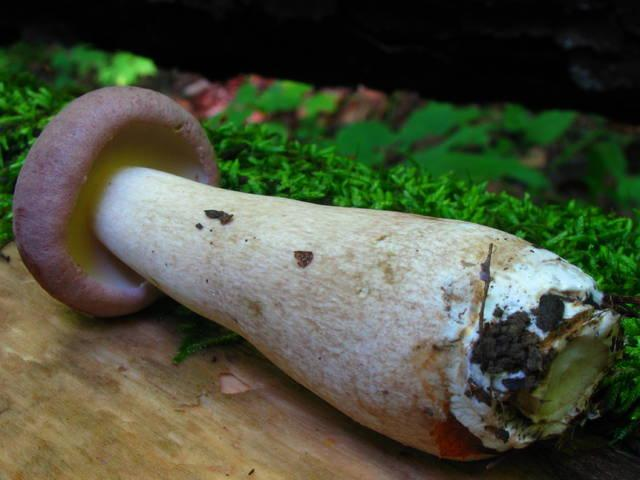Non-edible Mushroom: (11, 83, 628, 462)
